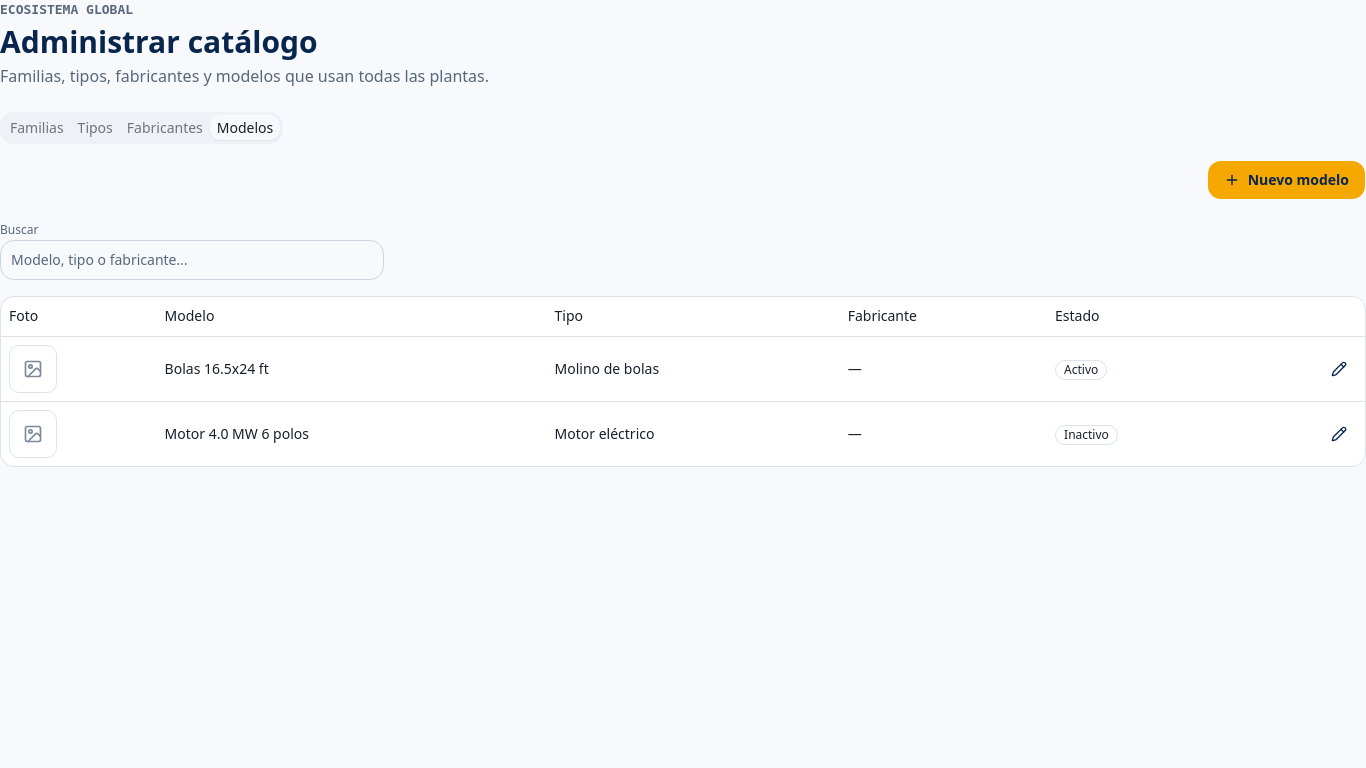
Administrar catálogo › modelos › muestra los errores del servidor en referencias dentro del formulario
Click the button named "Editar Bolas 16.5x24 ft" at (1339,369), box x1=1321 y1=351 x2=1357 y2=387
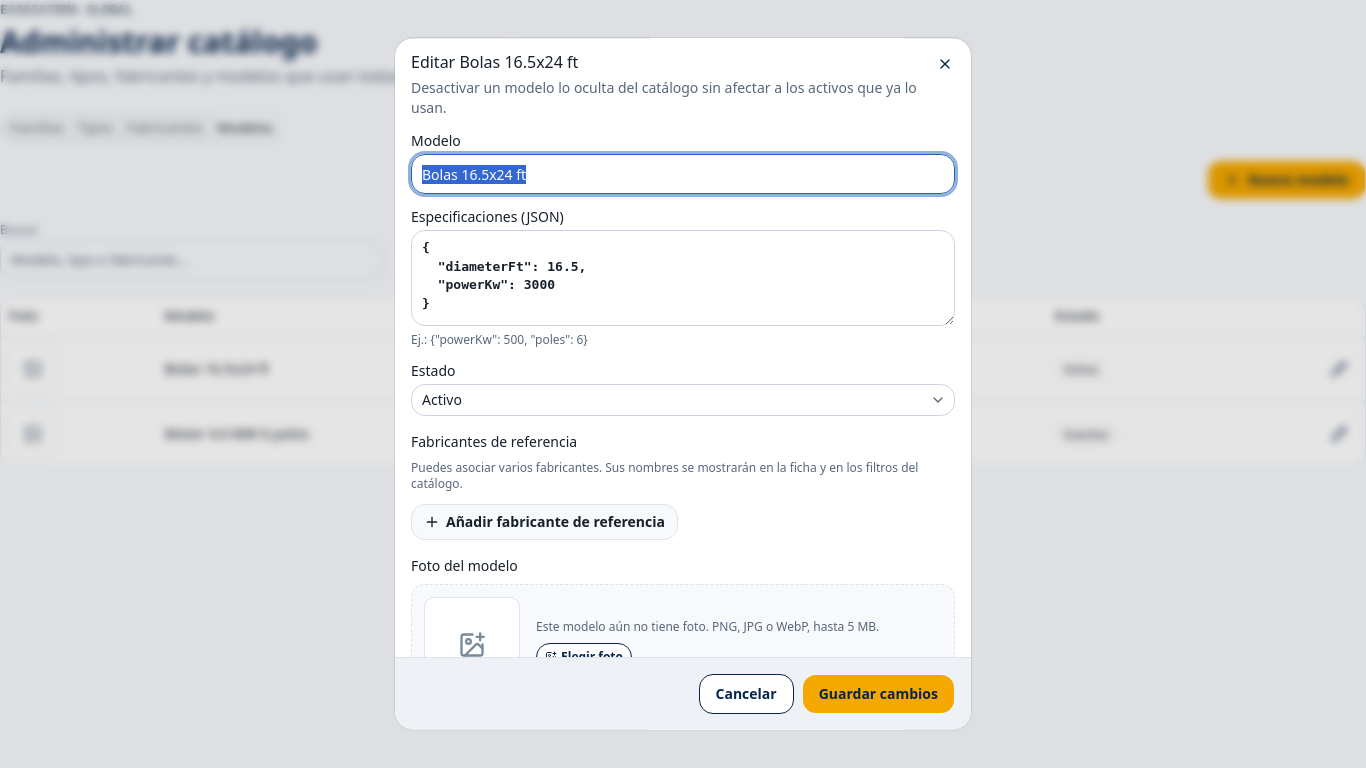
Click the button "Guardar cambios" at (878,694), box x1=802 y1=674 x2=955 y2=714
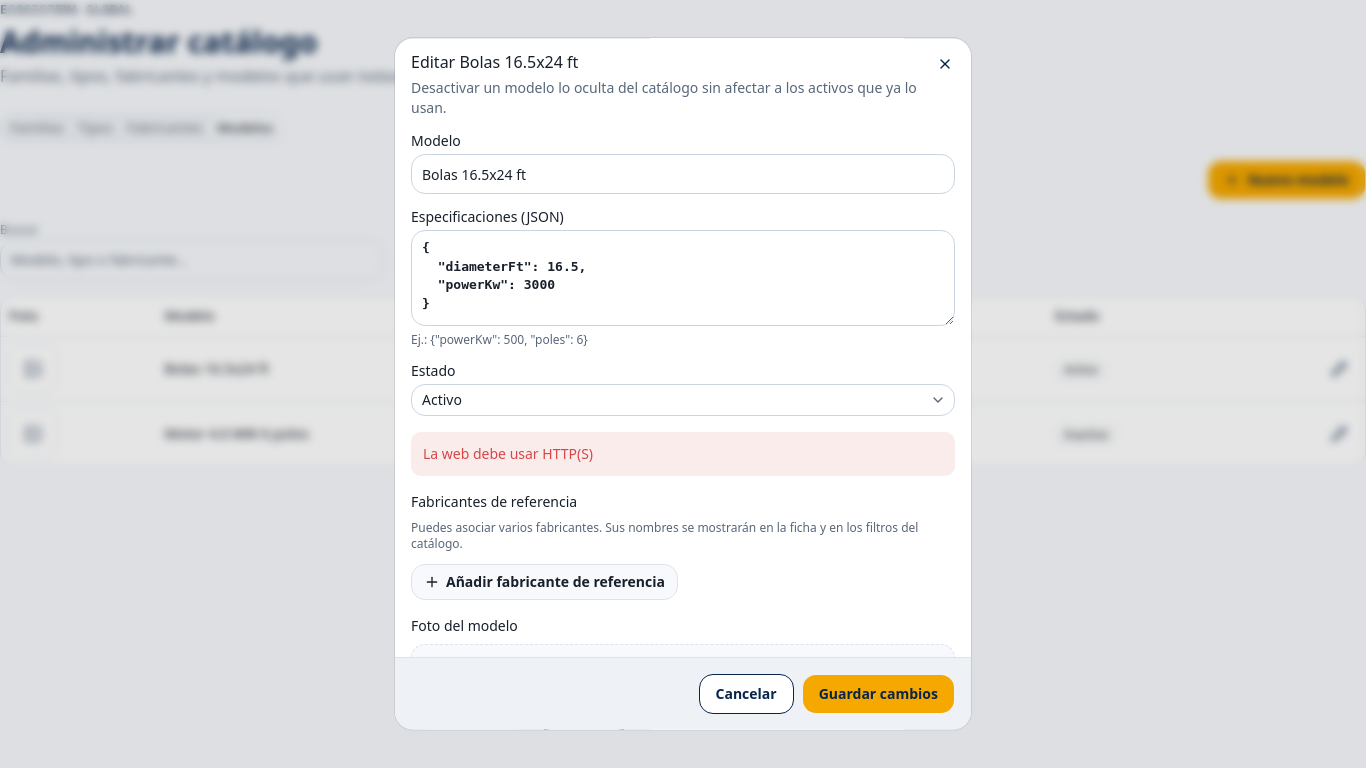
expect the text "La web debe usar HTTP(S)" is shown: met, box x1=411 y1=432 x2=955 y2=476
